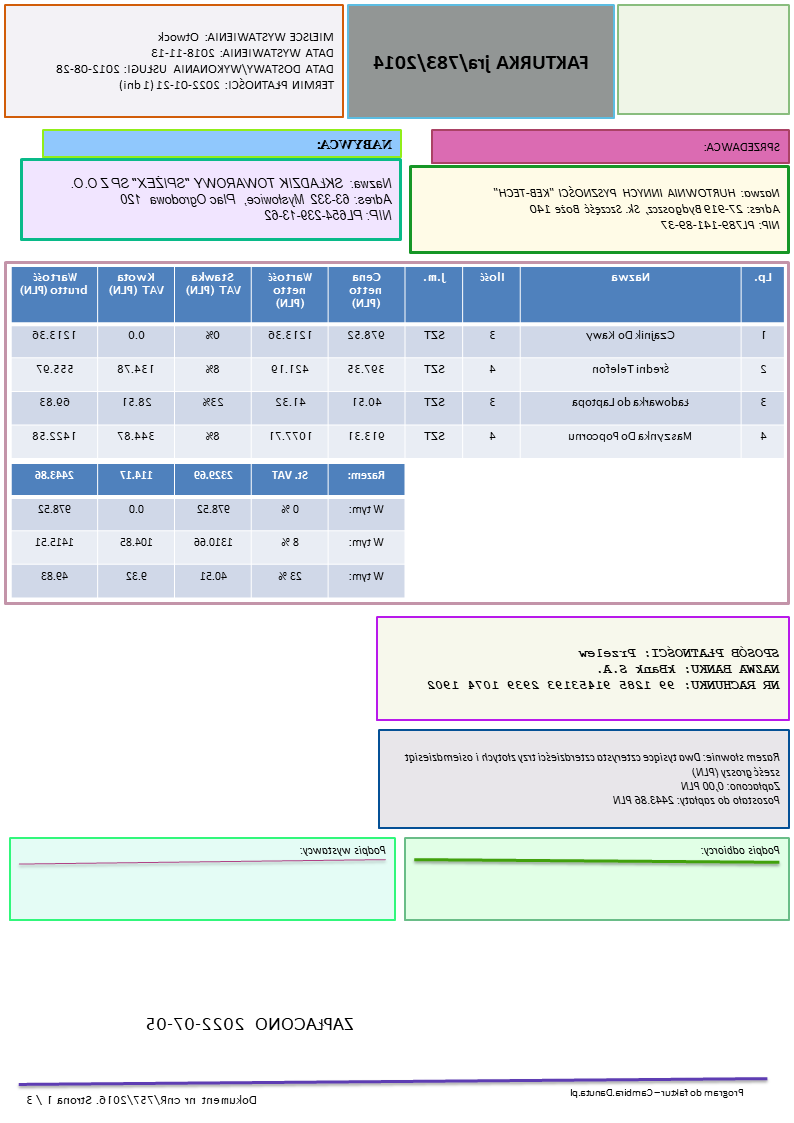Table: (11, 264, 786, 459), (12, 461, 406, 598)
TextBox: (402, 748, 783, 809), (52, 27, 337, 94), (426, 642, 781, 695), (70, 172, 396, 227), (492, 183, 783, 236), (370, 50, 593, 74), (146, 1012, 357, 1034), (24, 1091, 259, 1108), (567, 1083, 747, 1100), (299, 841, 390, 860), (703, 137, 785, 156), (700, 840, 782, 859), (315, 135, 396, 153)
